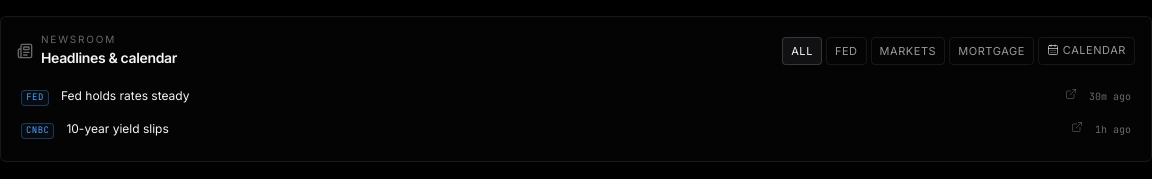
Test: NewsPanel › filters headlines by category when a tab is selected
Click the button "Fed" at {"x": 846, "y": 51}, box [826, 37, 867, 65]
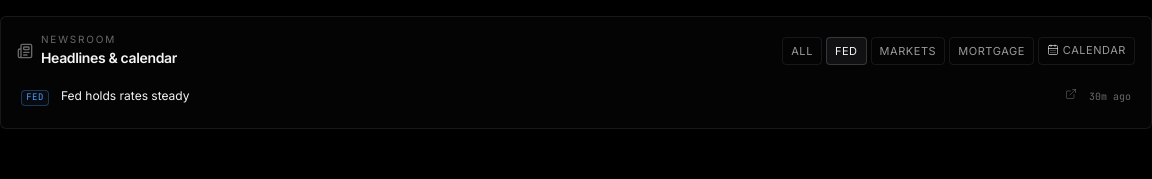
Check: the link "Fed holds rates steady" is shown, box [61, 88, 190, 103]
Check: the link "10-year yield slips" is gone
